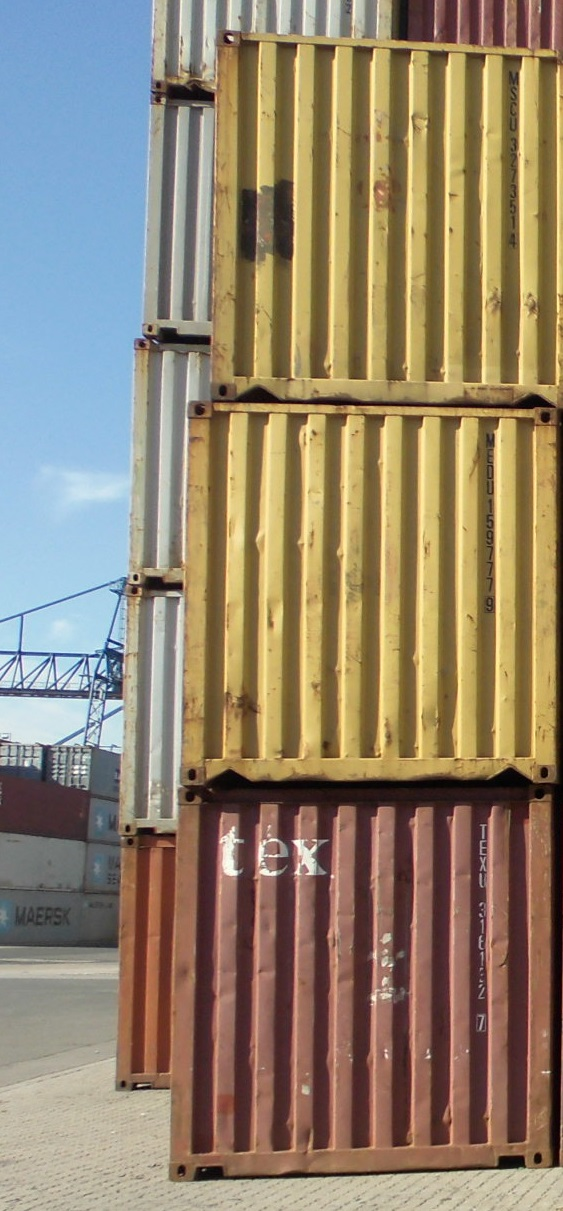container_no_door: (175, 405, 563, 785), (175, 791, 563, 1171), (208, 23, 563, 406)
